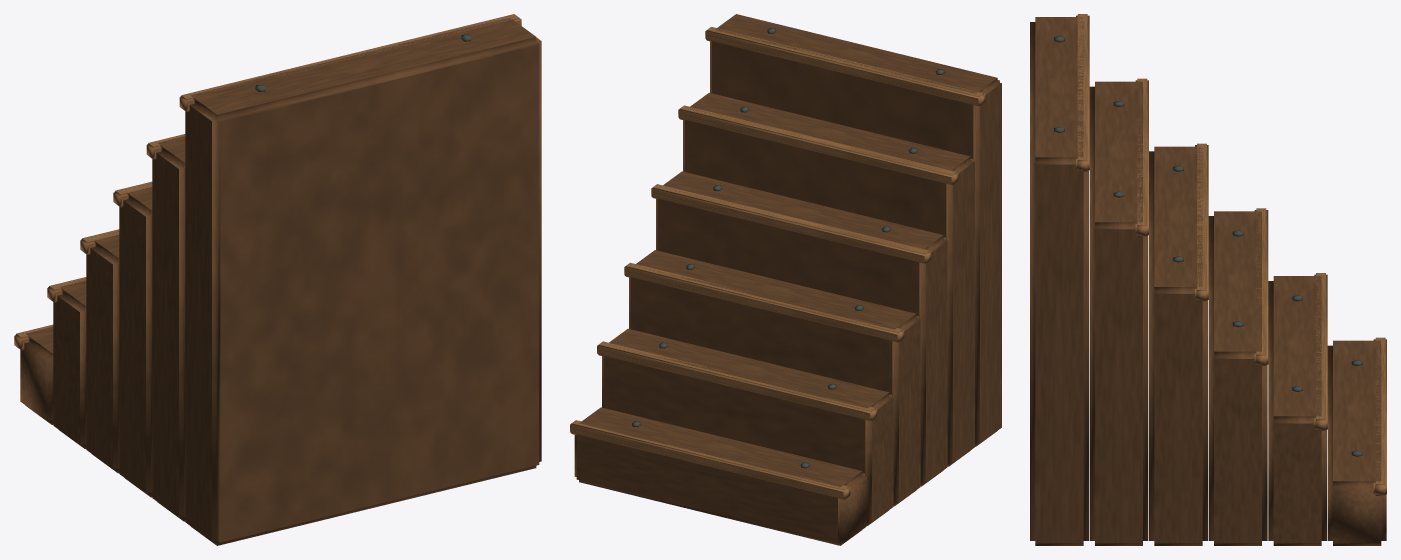
The model's file is wooden-stair-2.fbx.
The picture shows the model from 3 angles, left to right: view 1: azimuth 30°, elevation 25°; view 2: azimuth 150°, elevation 25°; view 3: azimuth 270°, elevation 25°; orthographic projection. The views are drawn at different scales.
Visible parts, largest first — view 1: wooden-stair-2__Geometry; view 2: wooden-stair-2__Geometry; view 3: wooden-stair-2__Geometry.
Boxes of the visible parts, x1,y1,x2,y2 form: wooden-stair-2__Geometry: (14, 14, 541, 545); wooden-stair-2__Geometry: (570, 14, 1001, 545); wooden-stair-2__Geometry: (1030, 14, 1386, 545).
Bounding box in the file's own units: 0.98 × 1.22 × 0.999.
1 material, 1 textured.
